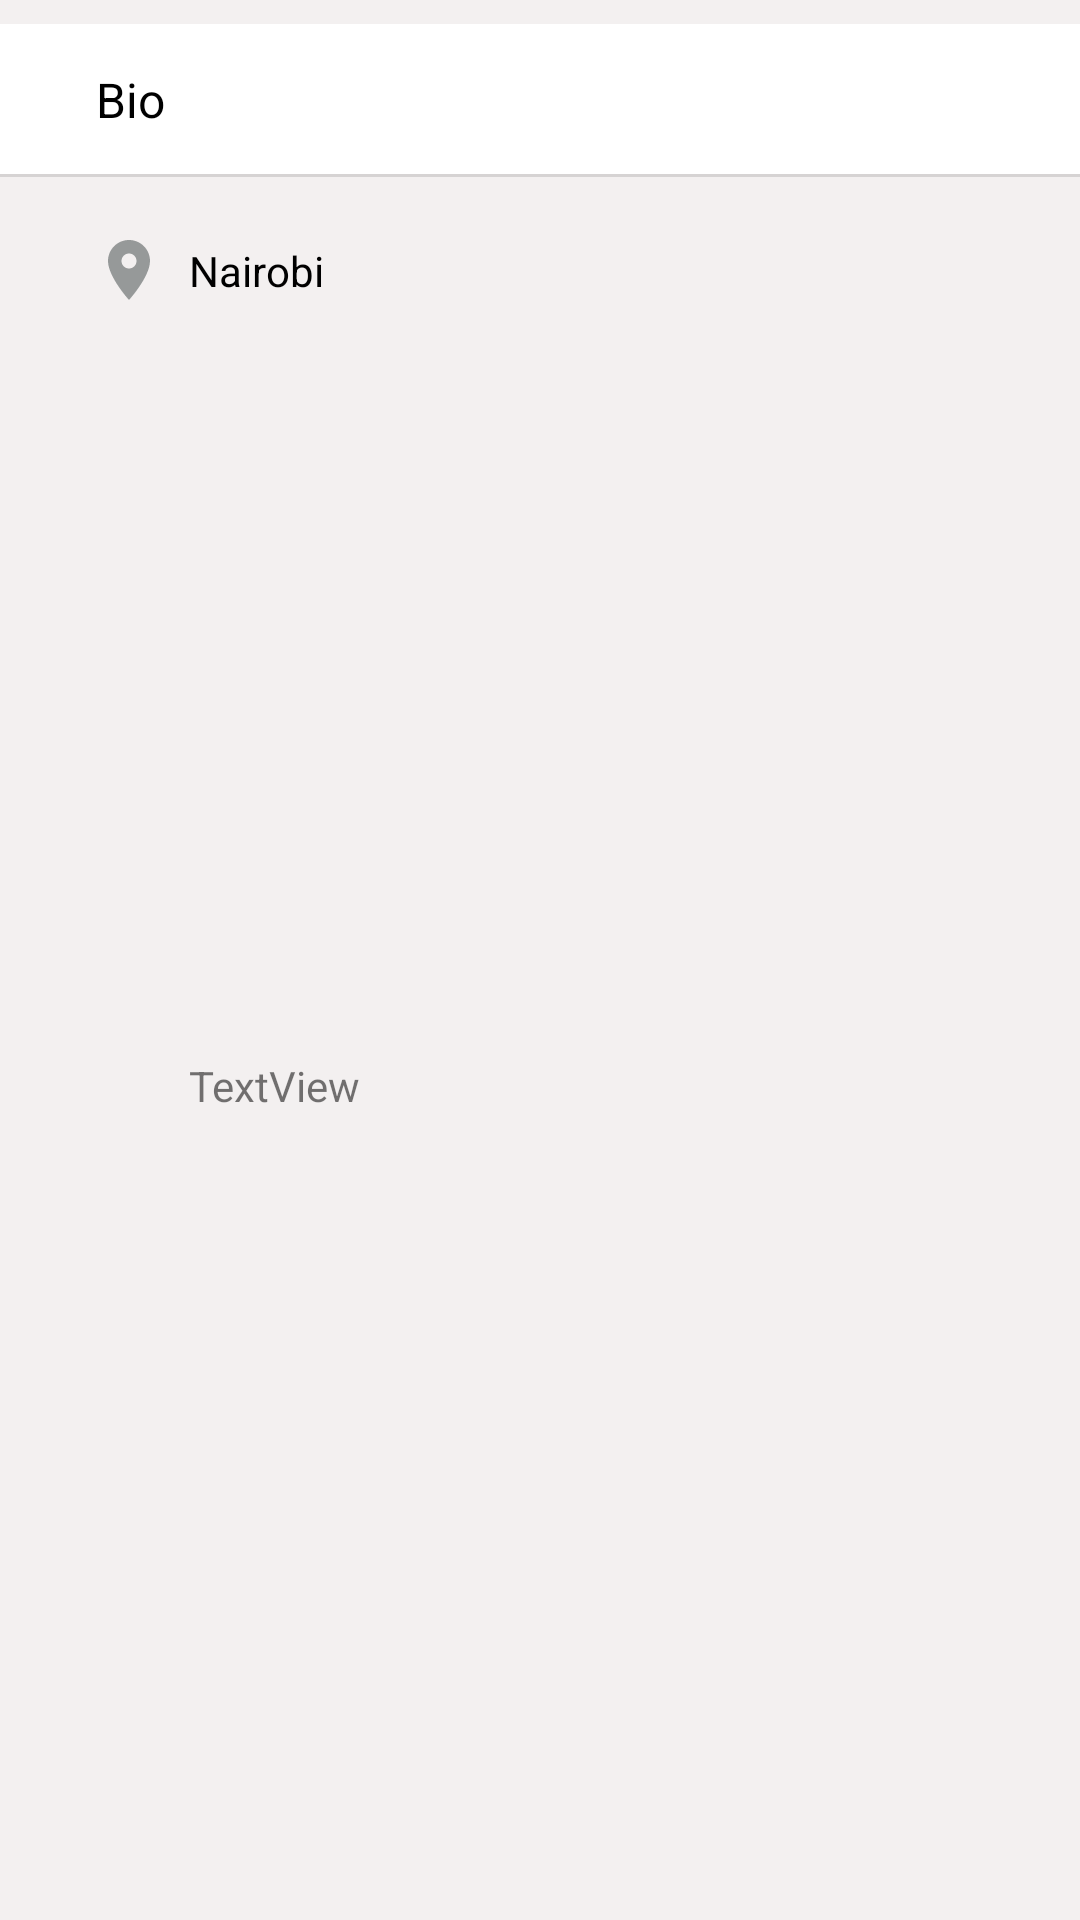

Screen size 1080px x 1920px. Icon name, then its center in pixels as (x=x, y=y):
location on: (x=129, y=270)
